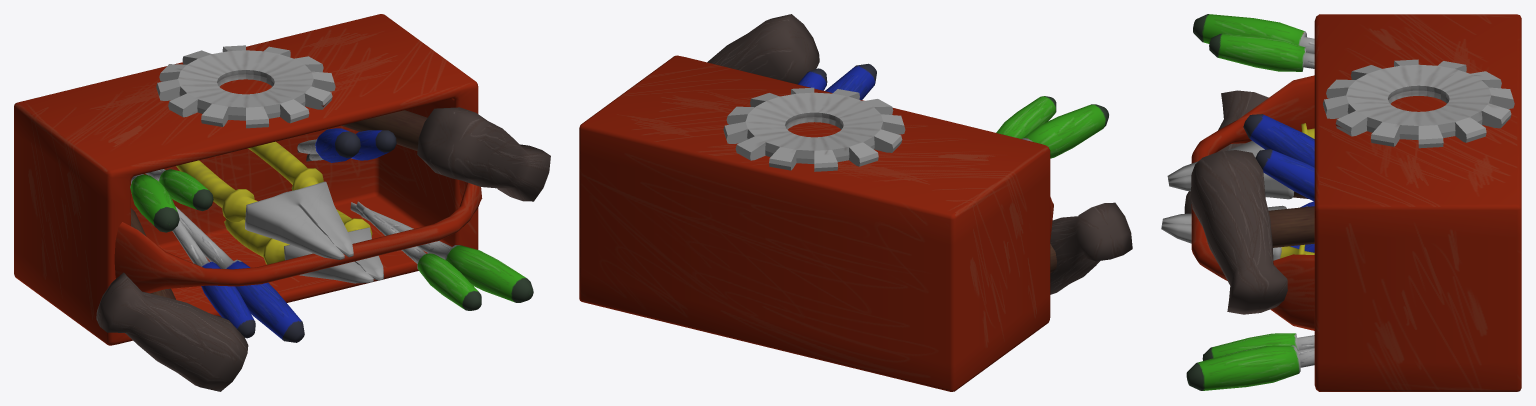
File: CaixaFerramenta.fbx
The picture shows the model from 3 angles, left to right: view 1: azimuth 30°, elevation 25°; view 2: azimuth 150°, elevation 25°; view 3: azimuth 270°, elevation 25°; orthographic projection. The views are drawn at different scales.
Visible parts, largest first — view 1: CaixaFerramenta; view 2: CaixaFerramenta; view 3: CaixaFerramenta.
Boxes of the visible parts, x1,y1,x2,y2 form: CaixaFerramenta: [14, 14, 550, 391]; CaixaFerramenta: [579, 14, 1132, 391]; CaixaFerramenta: [1161, 14, 1521, 391].
Bounding box in the file's own units: 67.41 × 30.83 × 44.03.
Materials: 1 (1 with a texture image).
